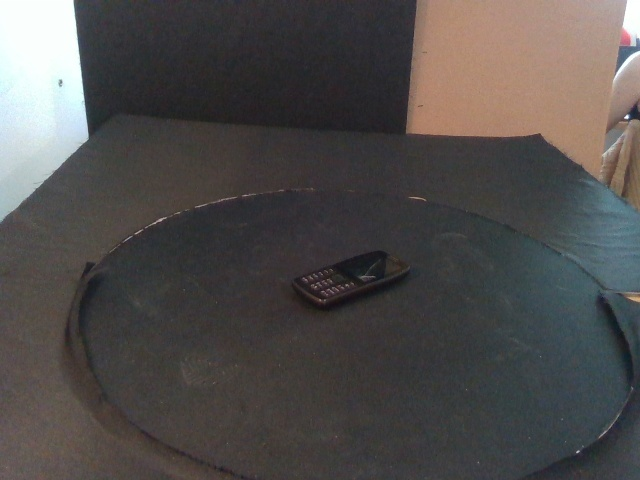phone: (291, 250, 413, 311)
